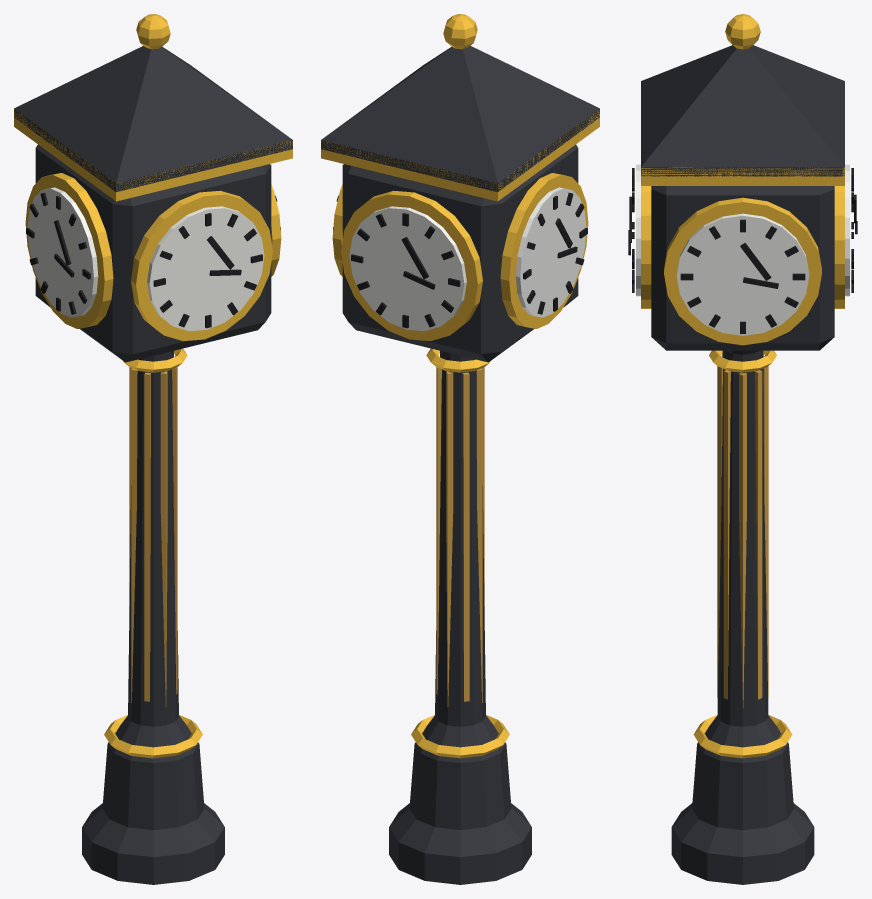
Rendered from StreetClock.fbx.
3 renders of one model, left to right at view 1: azimuth 30°, elevation 25°; view 2: azimuth 150°, elevation 25°; view 3: azimuth 270°, elevation 25°, orthographic.
Visible parts, largest first — view 1: StreetClock_Charcoal, StreetClock_Gold, StreetClock_White, StreetClock_Brass, StreetClock_Black; view 2: StreetClock_Charcoal, StreetClock_Gold, StreetClock_White, StreetClock_Brass, StreetClock_Black; view 3: StreetClock_Charcoal, StreetClock_Gold, StreetClock_White, StreetClock_Brass, StreetClock_Black.
Part boxes in pixels (left/top/right/bottom): StreetClock_Charcoal: left=14, top=46, right=292, bottom=884; StreetClock_Gold: left=14, top=14, right=292, bottom=758; StreetClock_White: left=27, top=187, right=264, bottom=331; StreetClock_Brass: left=129, top=367, right=177, bottom=706; StreetClock_Black: left=26, top=192, right=280, bottom=328; StreetClock_Charcoal: left=321, top=46, right=599, bottom=884; StreetClock_Gold: left=321, top=14, right=599, bottom=758; StreetClock_White: left=349, top=187, right=586, bottom=331; StreetClock_Brass: left=436, top=367, right=484, bottom=706; StreetClock_Black: left=333, top=192, right=587, bottom=328; StreetClock_Charcoal: left=641, top=45, right=844, bottom=884; StreetClock_Gold: left=641, top=14, right=844, bottom=758; StreetClock_White: left=636, top=164, right=849, bottom=335; StreetClock_Brass: left=717, top=366, right=768, bottom=707; StreetClock_Black: left=628, top=168, right=857, bottom=333.
Size of the model in its own units: 4.49 by 18.15 by 4.49.
